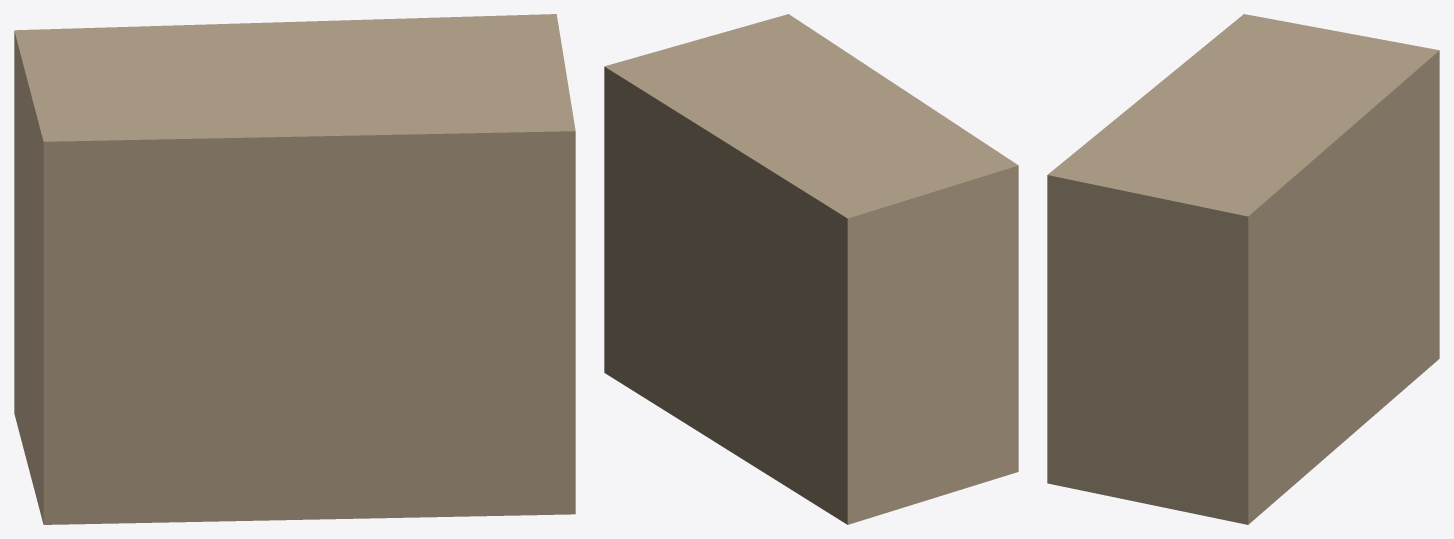
The model's file is bld_99615901.dae.
3 renders of one model, left to right at view 1: azimuth 30°, elevation 25°; view 2: azimuth 150°, elevation 25°; view 3: azimuth 270°, elevation 25°, orthographic. The views are drawn at different scales.
Visible parts, largest first — view 1: bld_99615901; view 2: bld_99615901; view 3: bld_99615901.
Boxes of the visible parts, bbox=[...] form: bld_99615901: bbox=[14, 14, 575, 524]; bld_99615901: bbox=[604, 14, 1018, 524]; bld_99615901: bbox=[1047, 14, 1439, 524].
Bounding box in the file's own units: 11.27 × 9.22 × 8.
